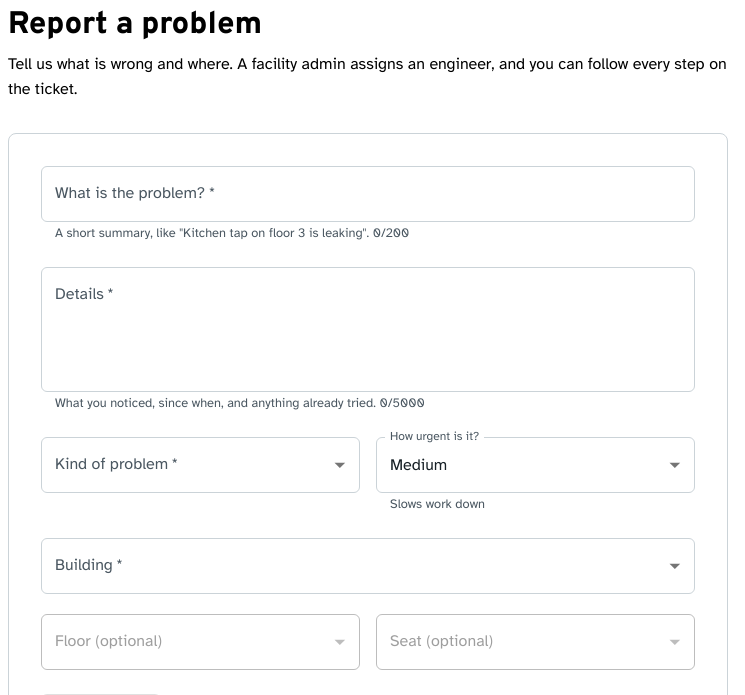
Scenario: ReportPage › shows server field messages in place and re-enables the form
In the field labelled "What is the problem? *": (368, 194) left=41, top=166, right=695, bottom=222, type "Tap leaking"
In the text box labelled "Details *": (368, 330) left=55, top=284, right=681, bottom=376, type "Since Monday"
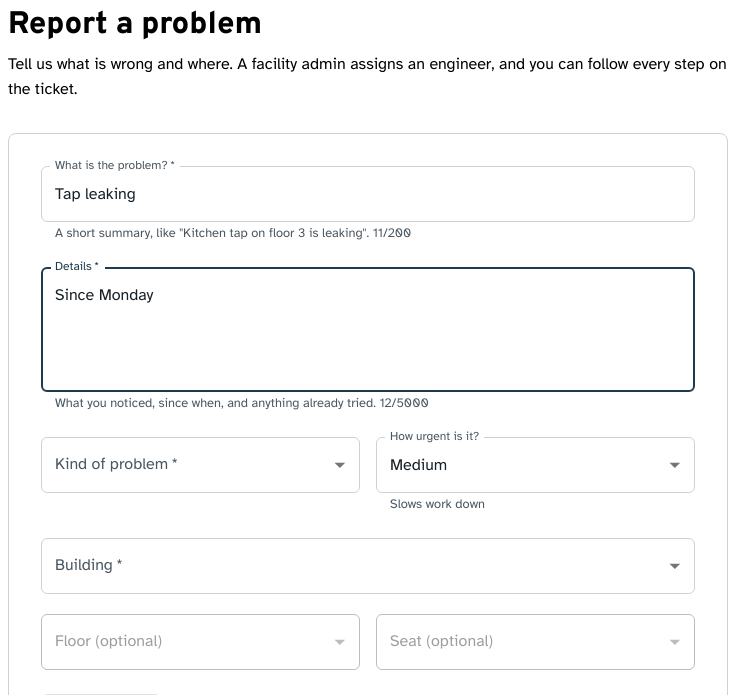
Click the dropdown named "Kind of problem" next to "Kind of problem": (200, 465) left=41, top=437, right=360, bottom=493
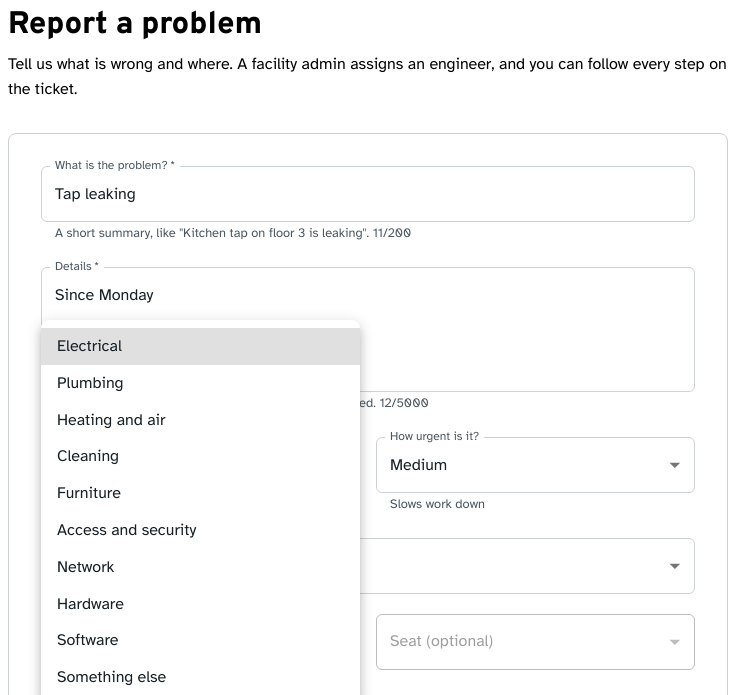
Click the option "Plumbing": (90, 383) left=57, top=373, right=124, bottom=393
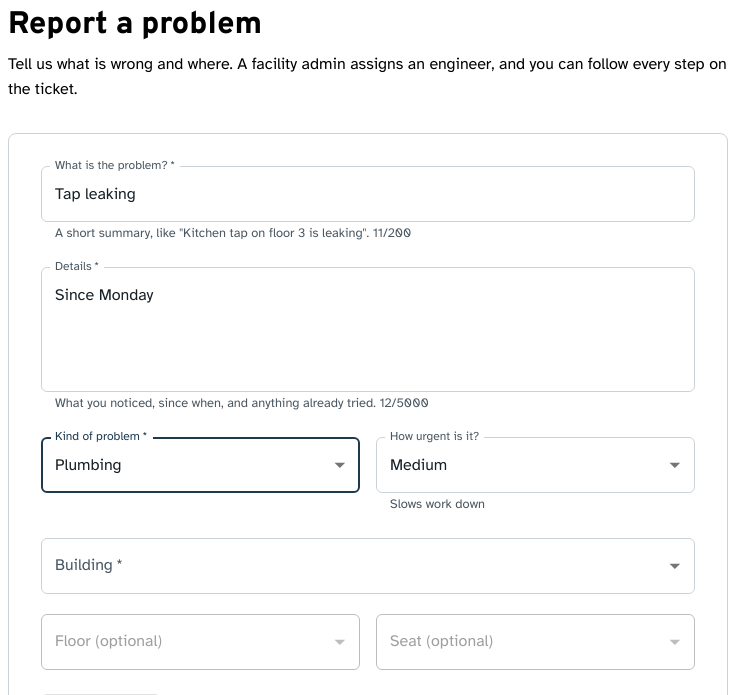
Click the dropdown named "Building" next to "Building": (368, 566) left=41, top=538, right=695, bottom=594
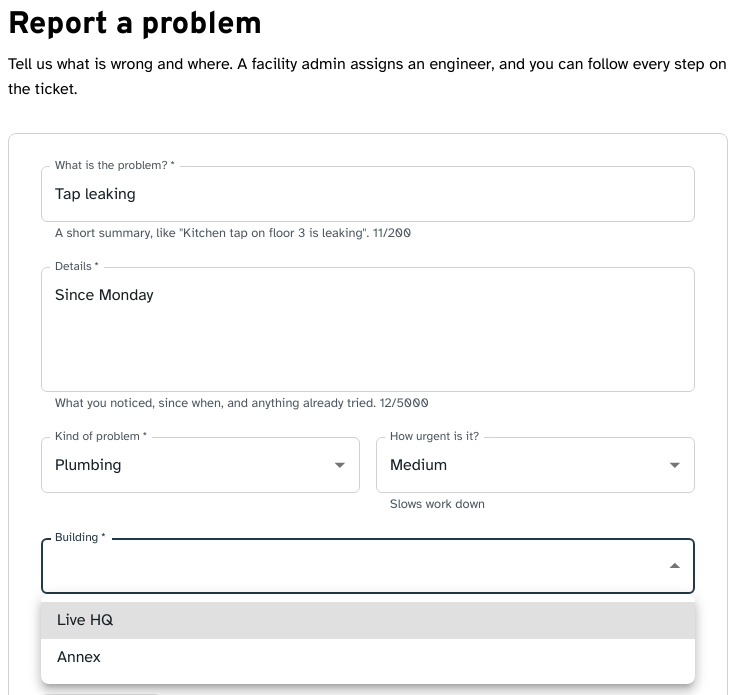
Click the option "Live HQ": (85, 620) left=41, top=602, right=695, bottom=639
(page scrolled)
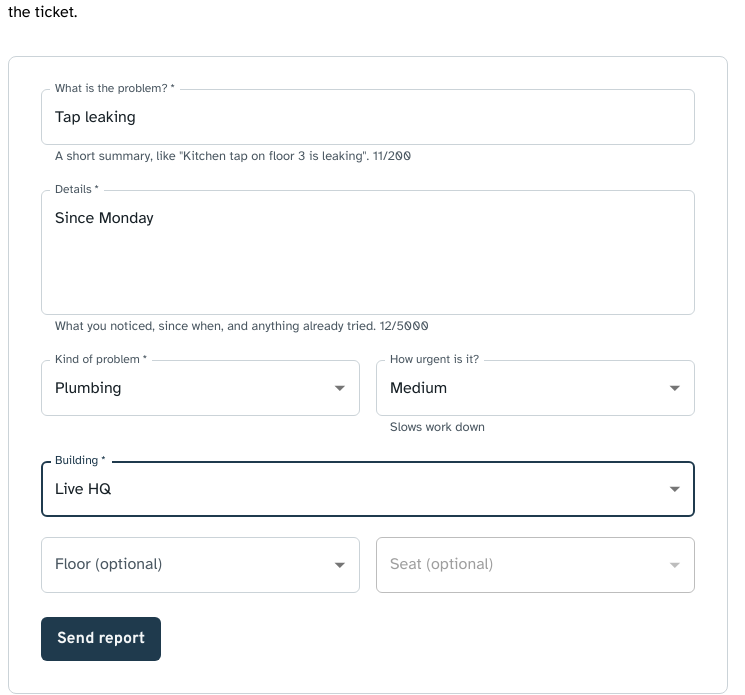
Click the button "Send report": (101, 639) left=41, top=617, right=161, bottom=661
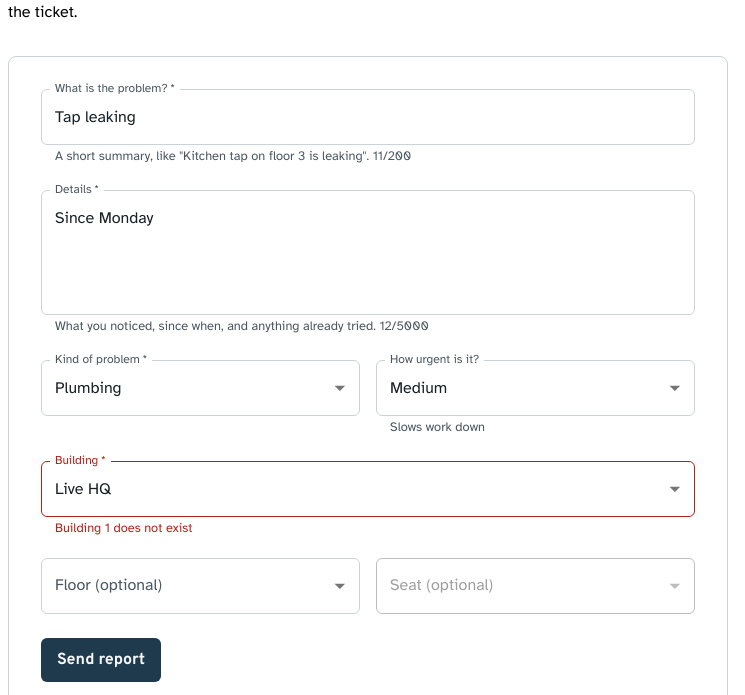
expect the button "Send report" is enabled: met, box left=41, top=638, right=161, bottom=682
expect the text "Building 1 does not exist" is shown: met, box left=55, top=520, right=192, bottom=536
